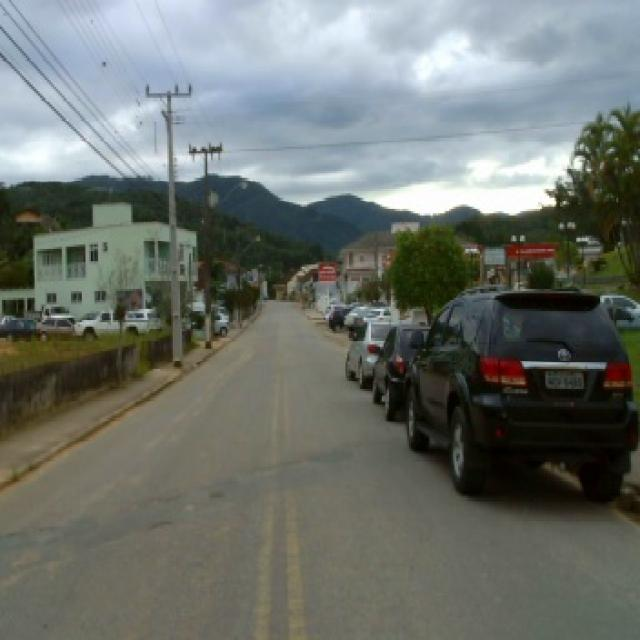Poth-hole: (142, 514, 178, 534), (203, 487, 226, 500)
